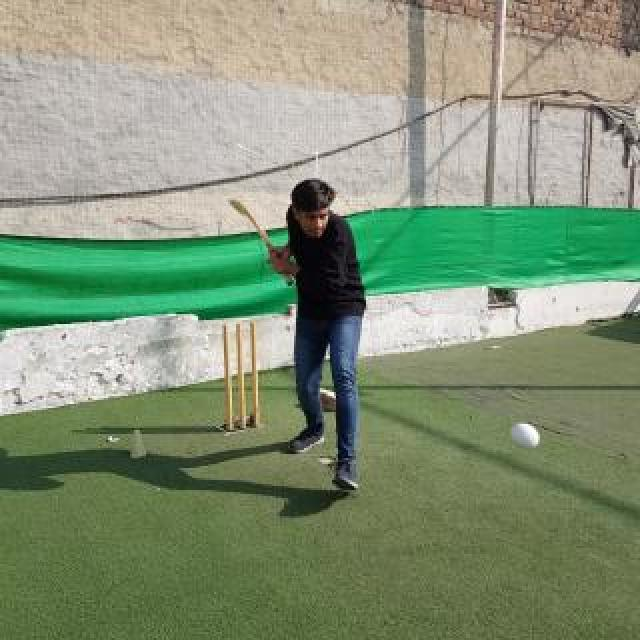ball: (510, 422, 540, 450)
bat: (228, 198, 294, 286)
